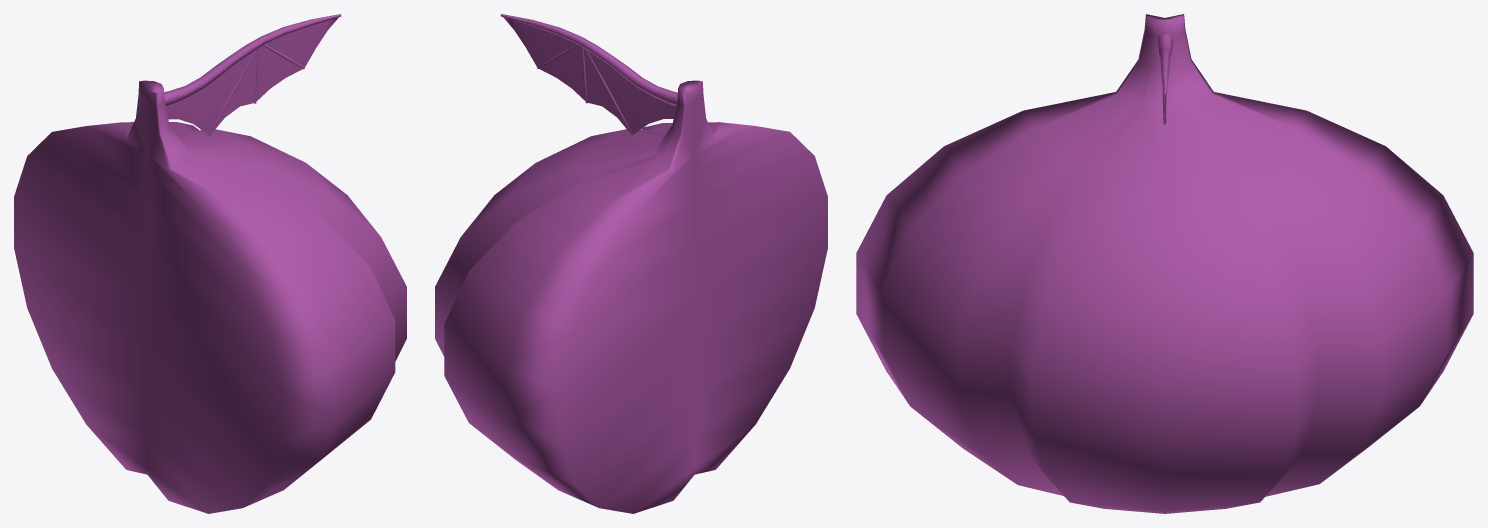
File: Ingredient_Pumpkin_Half.fbx
3 views of the same model, side by side, from view 1: azimuth 30°, elevation 25°; view 2: azimuth 150°, elevation 25°; view 3: azimuth 270°, elevation 25° (orthographic). The views are drawn at different scales.
Visible parts, largest first — view 1: Pumpkin_Half; view 2: Pumpkin_Half; view 3: Pumpkin_Half.
Part boxes in pixels (x1,y1,x2,y2): Pumpkin_Half: (14, 14, 406, 513); Pumpkin_Half: (435, 14, 827, 513); Pumpkin_Half: (856, 14, 1473, 513).
Size of the model in its own units: 33.5 by 61.39 by 69.65.
